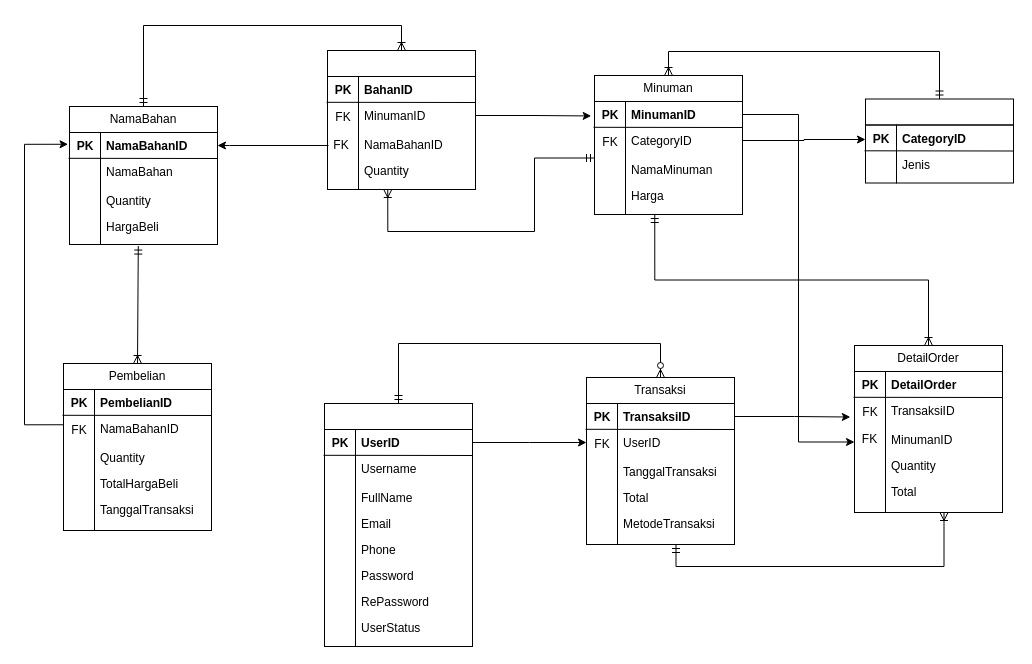
Image size: 1032x664. Some labels were removed from this diagram. The box of each missing label's shape, as (x1, y1, x2, y2) in pixels:
Bahan: (326, 50, 476, 76)
Category: (864, 98, 1014, 125)
User: (324, 402, 472, 430)
